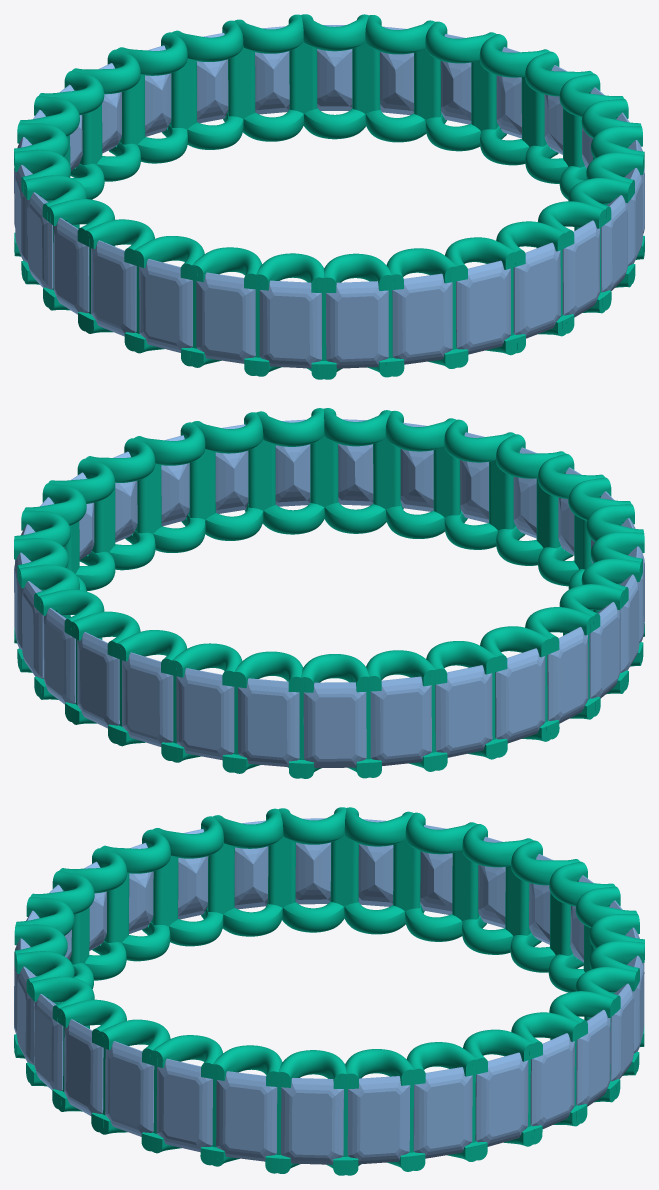
3 renders of one model, top to bottom at view 1: azimuth 30°, elevation 25°; view 2: azimuth 150°, elevation 25°; view 3: azimuth 270°, elevation 25°, orthographic.
Parts seen in each view (by area): view 1: EM 3 MM(base).3dm, Diamond_Emerald (×24); view 2: EM 3 MM(base).3dm, Diamond_Emerald (×25); view 3: EM 3 MM(base).3dm, Diamond_Emerald (×24).
Boxes of the visible parts, <box> form: EM 3 MM(base).3dm: <box>14,14,644,379</box>; Diamond_Emerald (×24): <box>15,25,642,368</box>; EM 3 MM(base).3dm: <box>14,408,644,778</box>; Diamond_Emerald (×25): <box>14,419,644,767</box>; EM 3 MM(base).3dm: <box>14,807,644,1175</box>; Diamond_Emerald (×24): <box>17,818,644,1164</box>.
Size of the model in its own units: 2.8 by 0.5589 by 2.8.
